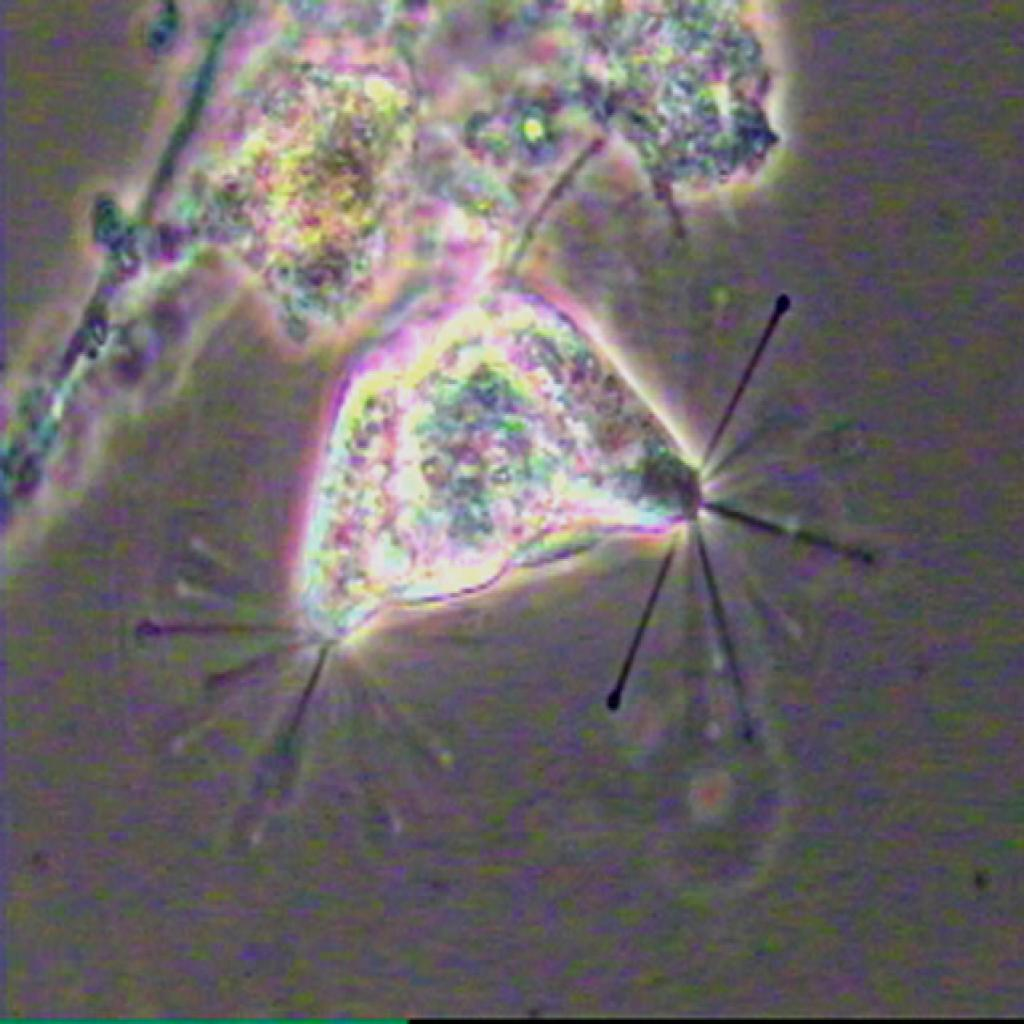Suctorida: (93, 248, 941, 831)
